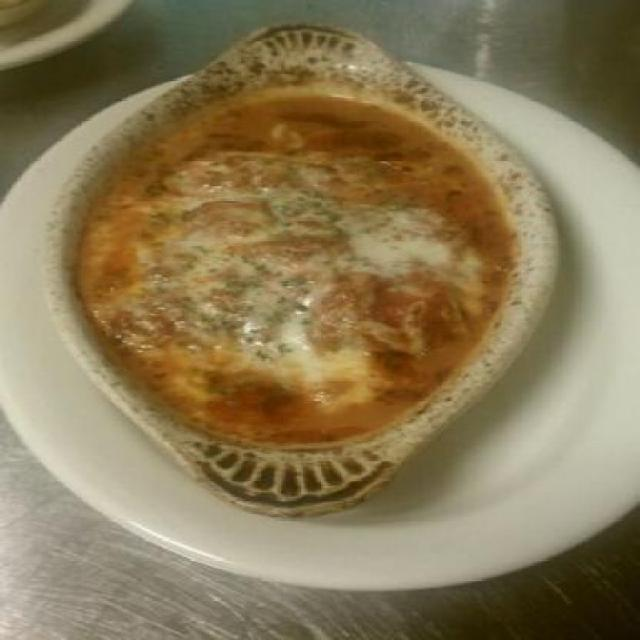Lasagna: (134, 130, 448, 428)
